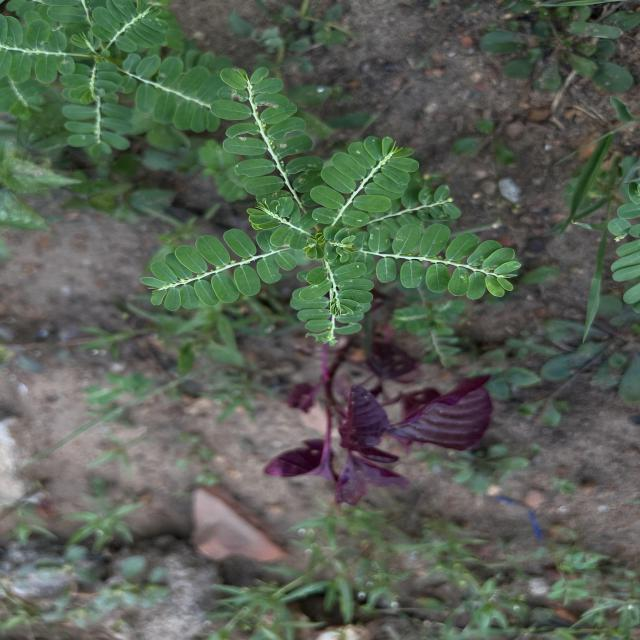Phyllanthus niruri: (209, 64, 317, 213), (137, 226, 298, 314), (354, 222, 525, 304), (310, 134, 423, 229), (288, 258, 374, 348)
